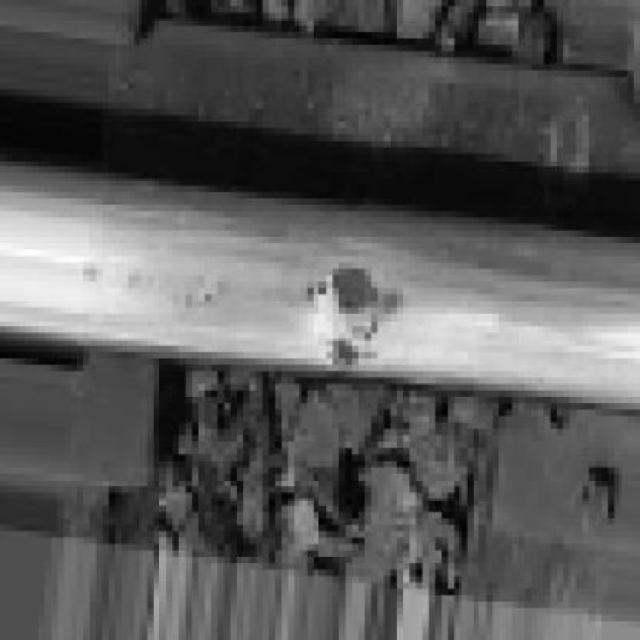defective: (216, 185, 459, 481)
